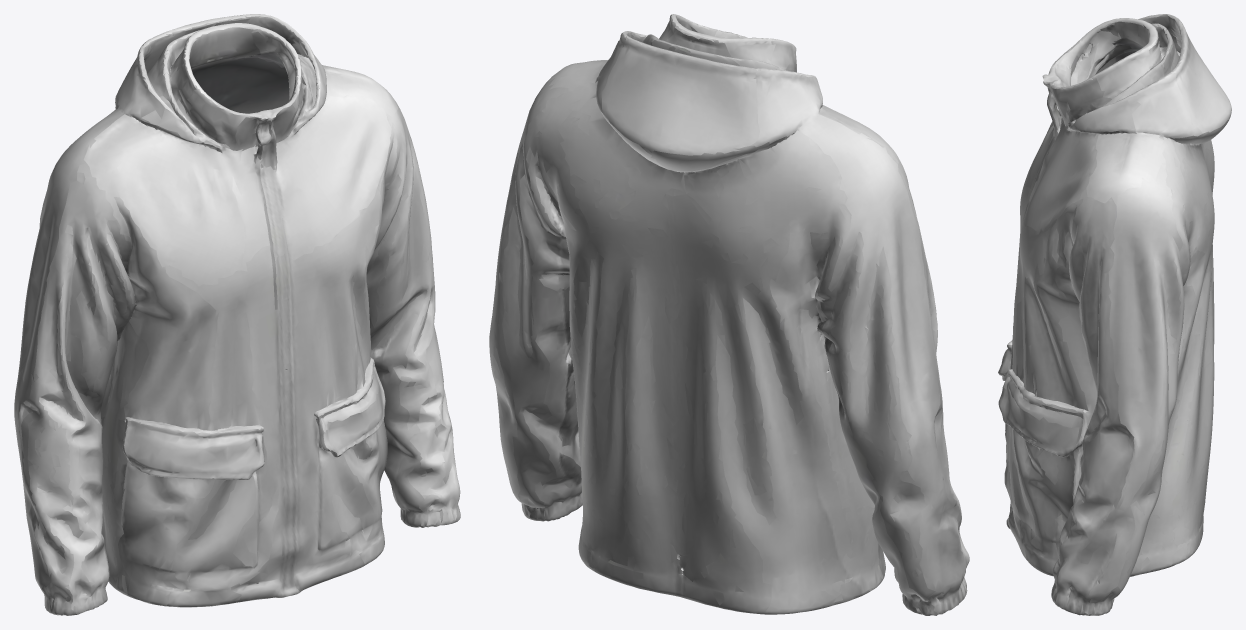
File: jacket.glb
3 renders of one model, left to right at view 1: azimuth 30°, elevation 25°; view 2: azimuth 150°, elevation 25°; view 3: azimuth 270°, elevation 25°, orthographic. The views are drawn at different scales.
Parts seen in each view (by area): view 1: geometry_0; view 2: geometry_0; view 3: geometry_0.
Boxes of the visible parts, x1=… form: geometry_0: x1=14, y1=14, x2=460, y2=615; geometry_0: x1=489, y1=14, x2=969, y2=615; geometry_0: x1=998, y1=14, x2=1231, y2=615.
Size of the model in its own units: 0.7 by 0.8235 by 0.3557.
Materials: 1 (1 with a texture image).
